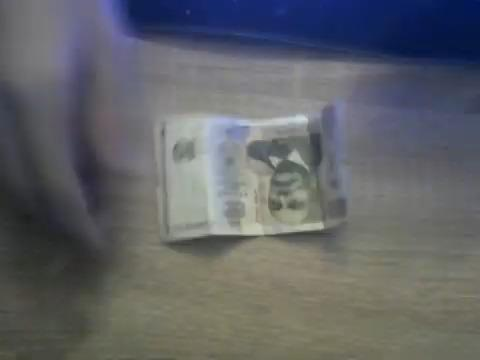10leva: (154, 104, 350, 245)
